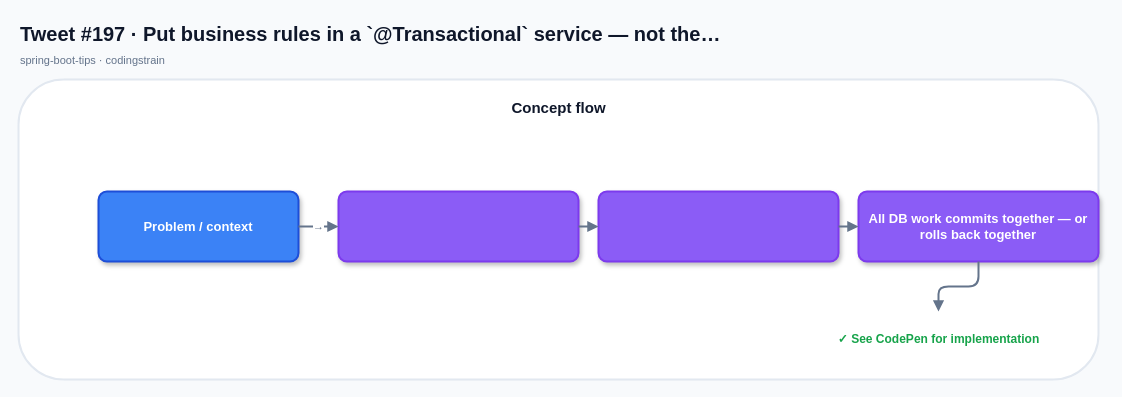
Some shapes in this 1122 by 397 pixel diagram are drawn without their labels. The centre of each missing label's shape, as x and y in pixels:
One method can call several repositories safely: point (719, 227)
💡 Put business rules in a `@Transactional` service — not the controlle: point (459, 227)
